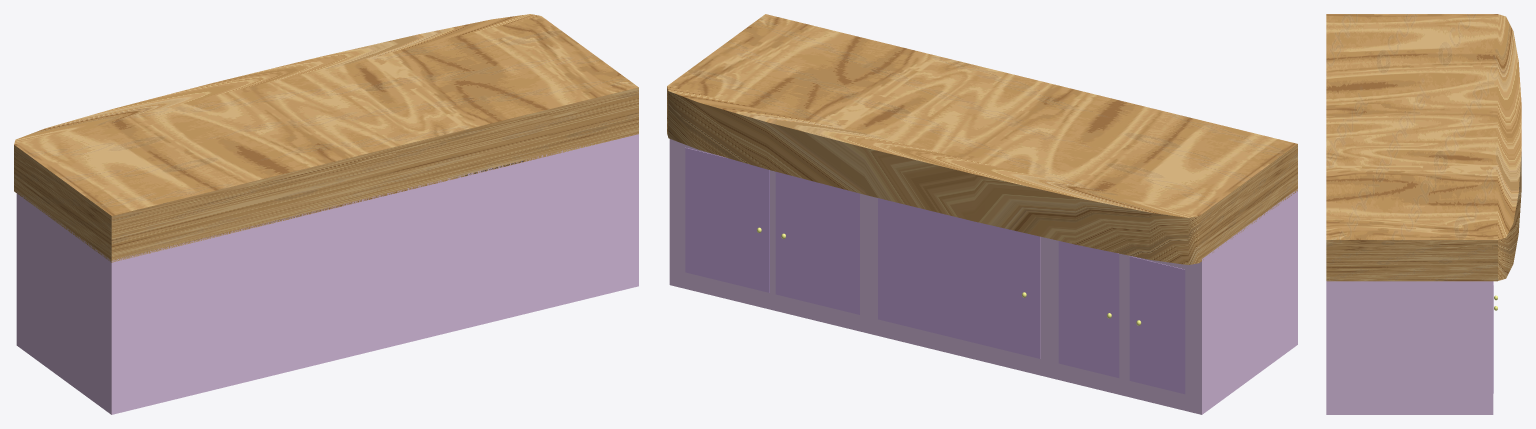
File: barraLateral.obj
3 renders of one model, left to right at view 1: azimuth 30°, elevation 25°; view 2: azimuth 150°, elevation 25°; view 3: azimuth 270°, elevation 25°, orthographic. The views are drawn at different scales.
Parts seen in each view (by area): view 1: polySurface52 polySurface468, polySurface52 polySurface467; view 2: polySurface52 polySurface467, polySurface52 polySurface468, polySurface52 polySurface475, polySurface477 polySurface52, polySurface52 polySurface471, polySurface52 polySurface474, polySurface52 polySurface473; view 3: polySurface52 polySurface467, polySurface52 polySurface468.
Part boxes in pixels (x1,y1,x2,y2): polySurface52 polySurface468: (16, 134, 638, 414); polySurface52 polySurface467: (14, 14, 638, 262); polySurface52 polySurface467: (667, 14, 1297, 264); polySurface52 polySurface468: (669, 139, 1297, 414); polySurface52 polySurface475: (878, 198, 1040, 358); polySurface477 polySurface52: (685, 147, 769, 292); polySurface52 polySurface471: (775, 172, 859, 314); polySurface52 polySurface474: (1058, 241, 1119, 377); polySurface52 polySurface473: (1129, 256, 1185, 394); polySurface52 polySurface467: (1326, 14, 1521, 281); polySurface52 polySurface468: (1326, 281, 1493, 414).
Bounding box in the file's own units: 0.4784 × 0.1725 × 0.1745.
Materials: 12 (12 with a texture image).
